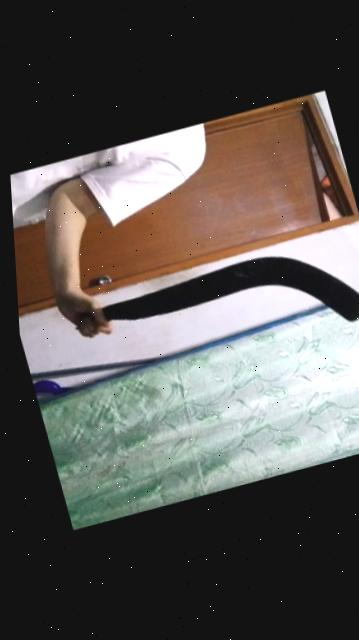long knife: (36, 202, 359, 418)
